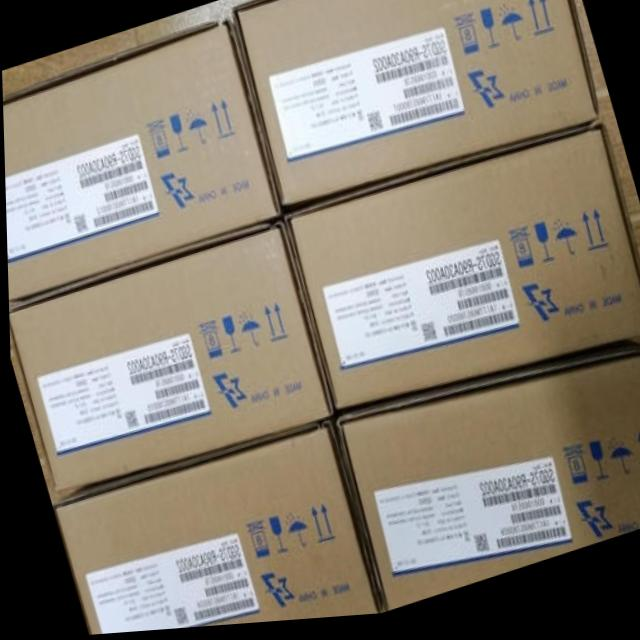box: (280, 129, 640, 414), (7, 221, 332, 494), (330, 348, 640, 617), (2, 21, 280, 303), (230, 0, 601, 211), (49, 424, 381, 636)
